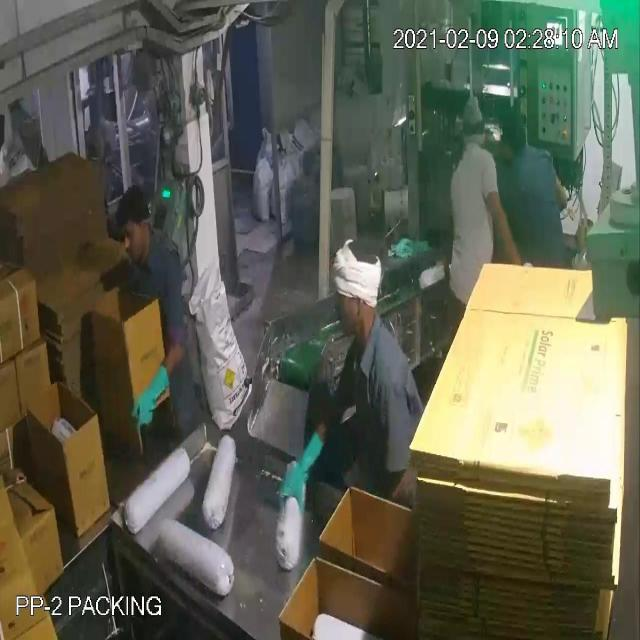Gloves: (50, 73, 503, 466)
